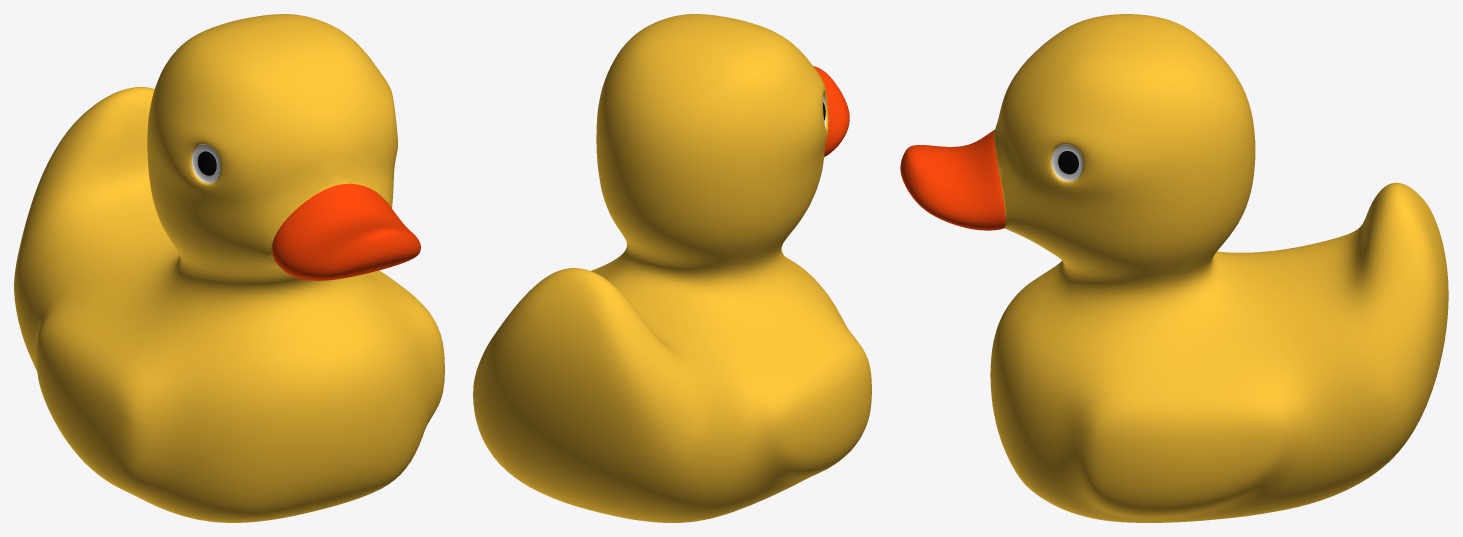
The picture shows the model from 3 angles, left to right: view 1: azimuth 30°, elevation 25°; view 2: azimuth 150°, elevation 25°; view 3: azimuth 270°, elevation 25°; orthographic projection. The views are drawn at different scales.
Parts seen in each view (by area): view 1: Object_4, Object_5, Object_6; view 2: Object_4, Object_5; view 3: Object_4, Object_5.
Part boxes in pixels (x1,y1,x2,y2): Object_4: (14, 14, 444, 522); Object_5: (272, 183, 420, 280); Object_6: (192, 144, 220, 183); Object_4: (473, 14, 871, 522); Object_5: (813, 66, 849, 156); Object_4: (990, 14, 1448, 522); Object_5: (900, 130, 1005, 230).
Size of the model in its own units: 0.2368 by 0.3082 by 0.3393.
